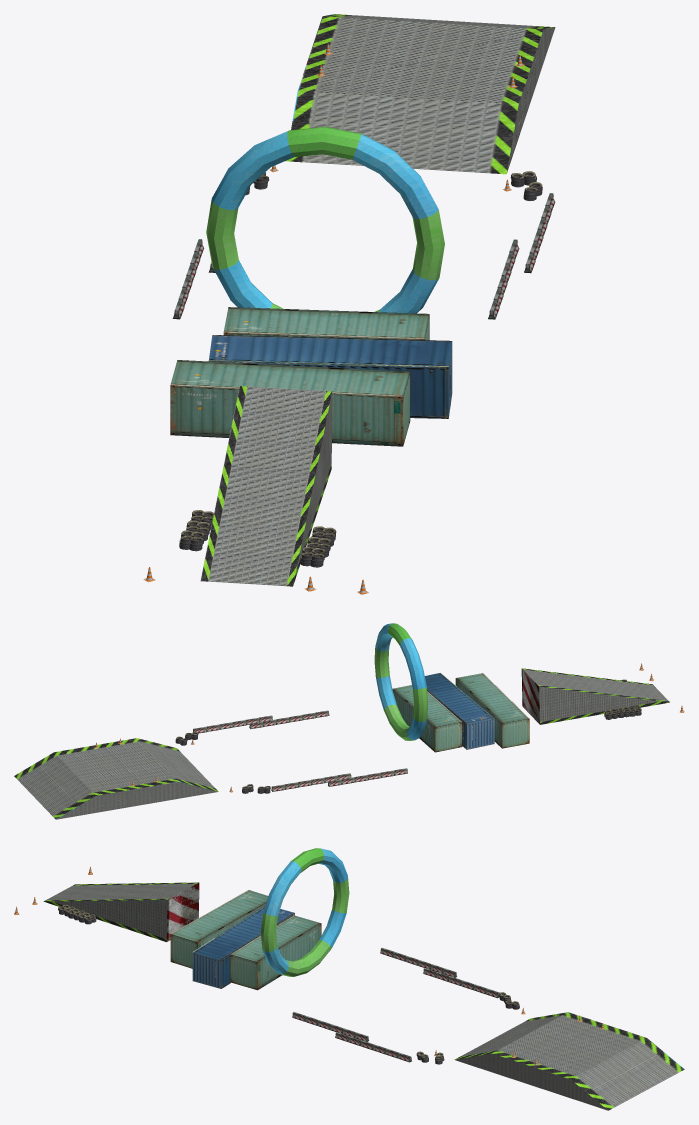
The picture shows the model from 3 angles, top to bottom: view 1: azimuth 30°, elevation 25°; view 2: azimuth 150°, elevation 25°; view 3: azimuth 270°, elevation 25°; orthographic projection. The views are drawn at different scales.
Parts seen in each view (by area): view 1: level_E; view 2: level_E; view 3: level_E.
Part boxes in pixels (box(x1,y1,x2,y2)): level_E: box(143, 14, 555, 594); level_E: box(14, 623, 684, 819); level_E: box(14, 848, 684, 1110).
Size of the model in its own units: 6944 by 1680 by 8279.
